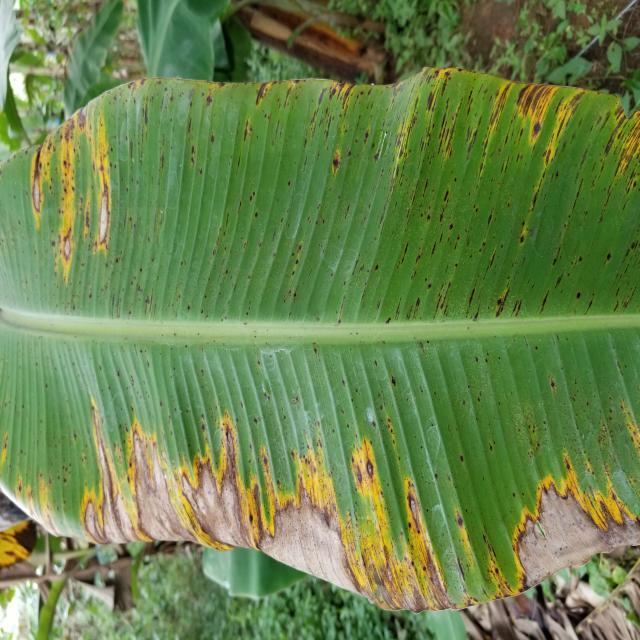Early_rust: (0, 40, 640, 350), (0, 330, 640, 640)
